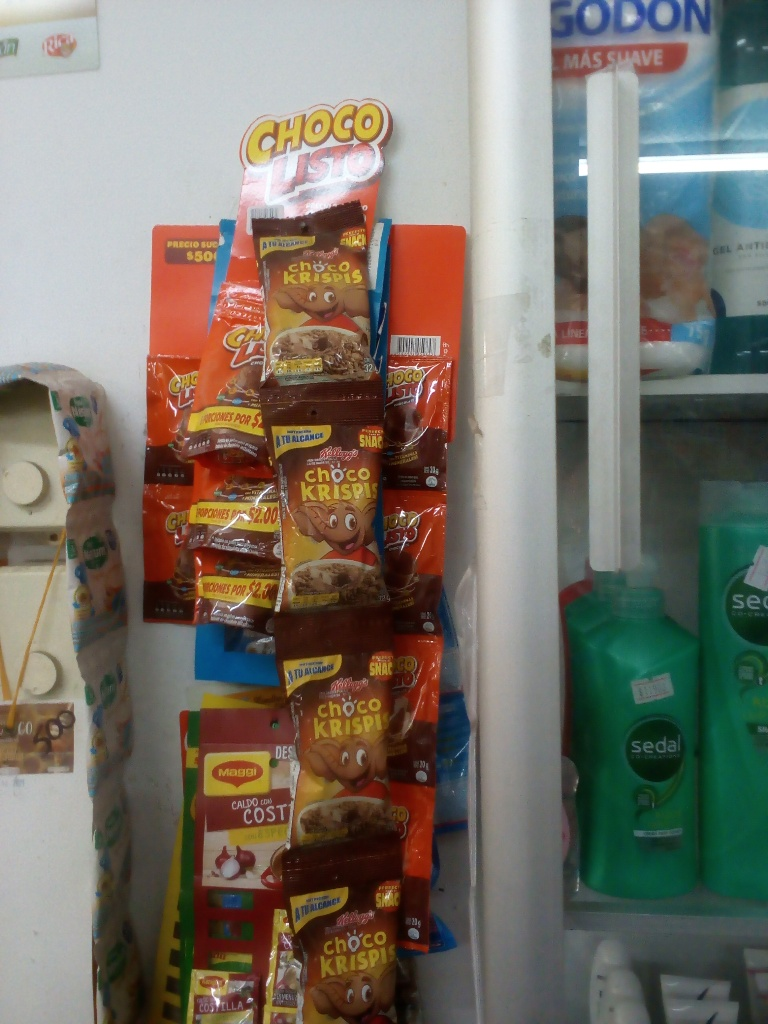COL0170103SOB02000: (382, 359, 455, 487)
